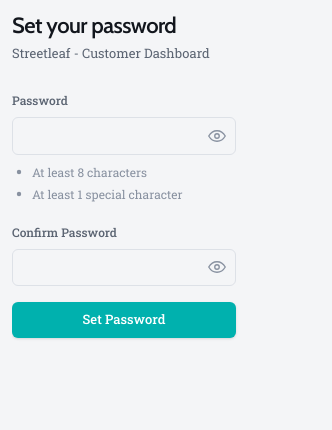
Test case: RegisterForm › shows the server's error message and does not redirect on an invalid/expired invite link
In the password field labelled "Password": (124, 136) [12,117,236,154], type "Pass.123"
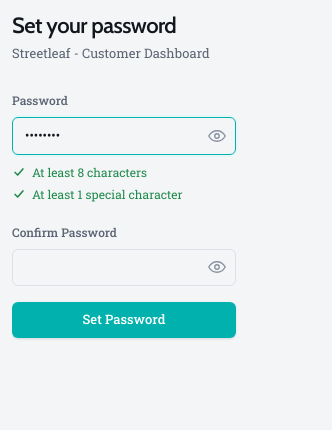
In the password field labelled "Confirm Password": (124, 267) [12,248,236,286], type "Pass.123"
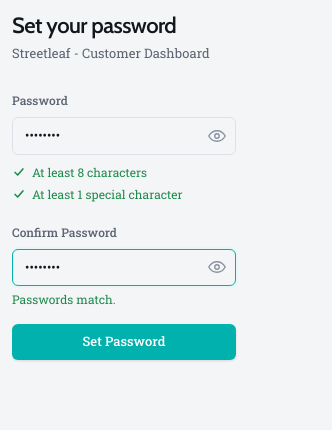
Click the button "Set Password": (124, 342) [12,324,236,360]
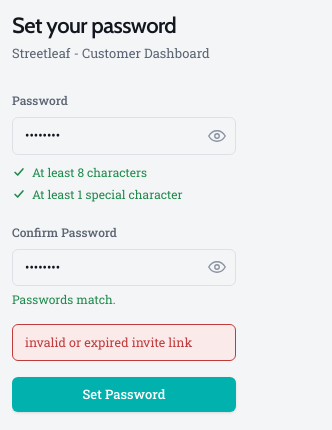
Result: the message reads "invalid or expired invite link" at [25,334,192,350]
